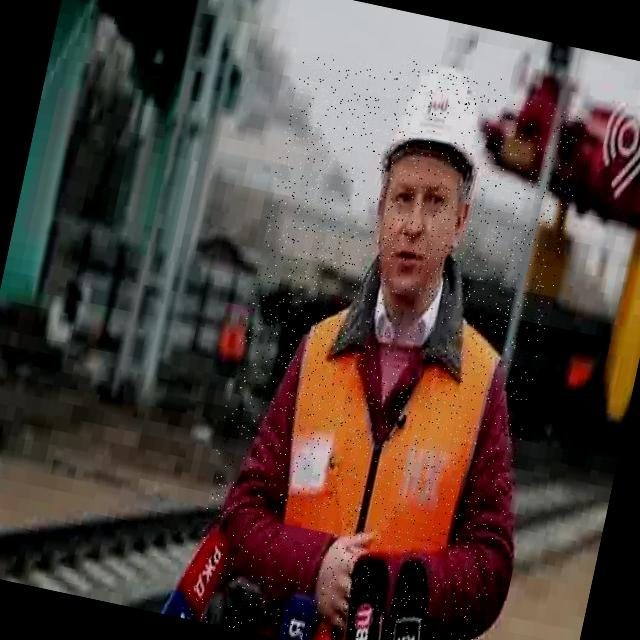helmet: (374, 55, 504, 200)
vest: (236, 284, 517, 640)
